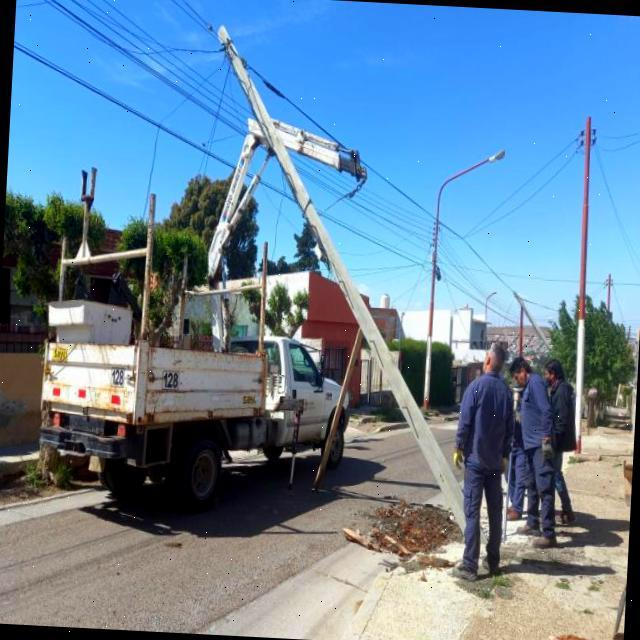Broken Pole: (216, 24, 464, 537)
